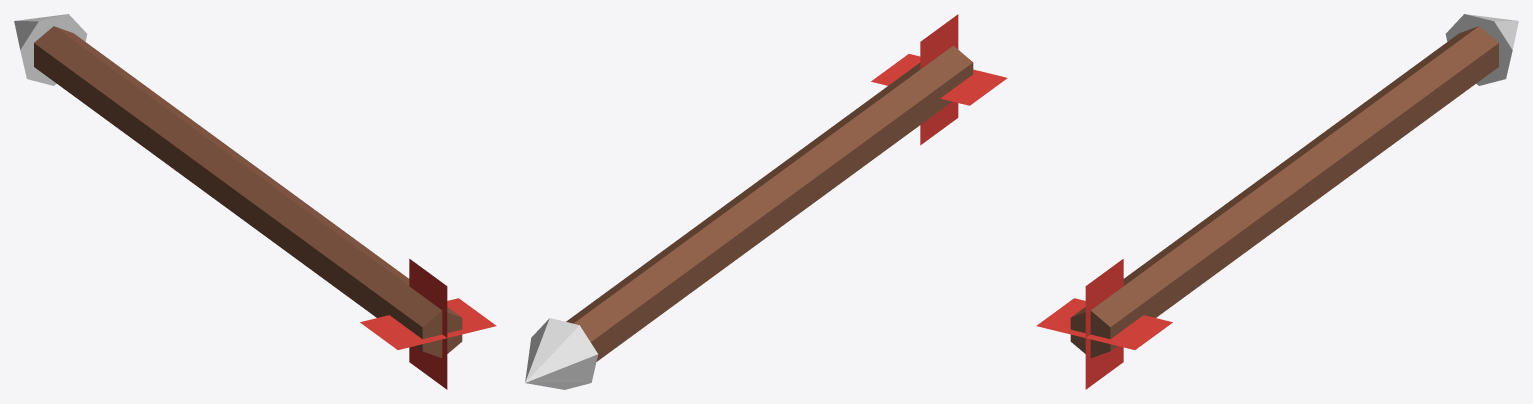
The model's file is arrow.glb.
3 renders of one model, left to right at view 1: azimuth 30°, elevation 25°; view 2: azimuth 150°, elevation 25°; view 3: azimuth 330°, elevation 25°, orthographic.
Parts seen in each view (by area): view 1: Cylinder, Plane, Plane.001, Cone; view 2: Cylinder, Cone, Plane, Plane.001; view 3: Cylinder, Plane, Plane.001, Cone.
Part boxes in pixels (<box>): Cylinder: <box>34,26,462,358</box>; Plane: <box>409,259,447,389</box>; Plane.001: <box>360,298,496,349</box>; Cone: <box>14,14,87,85</box>; Cylinder: <box>566,45,973,361</box>; Cone: <box>525,318,598,389</box>; Plane: <box>920,14,958,145</box>; Plane.001: <box>871,54,1007,105</box>; Cylinder: <box>1070,26,1498,358</box>; Plane: <box>1085,259,1123,389</box>; Plane.001: <box>1036,298,1172,349</box>; Cone: <box>1445,14,1518,85</box>.
Bounding box in the file's own units: 0.2161 × 0.2161 × 1.64.
